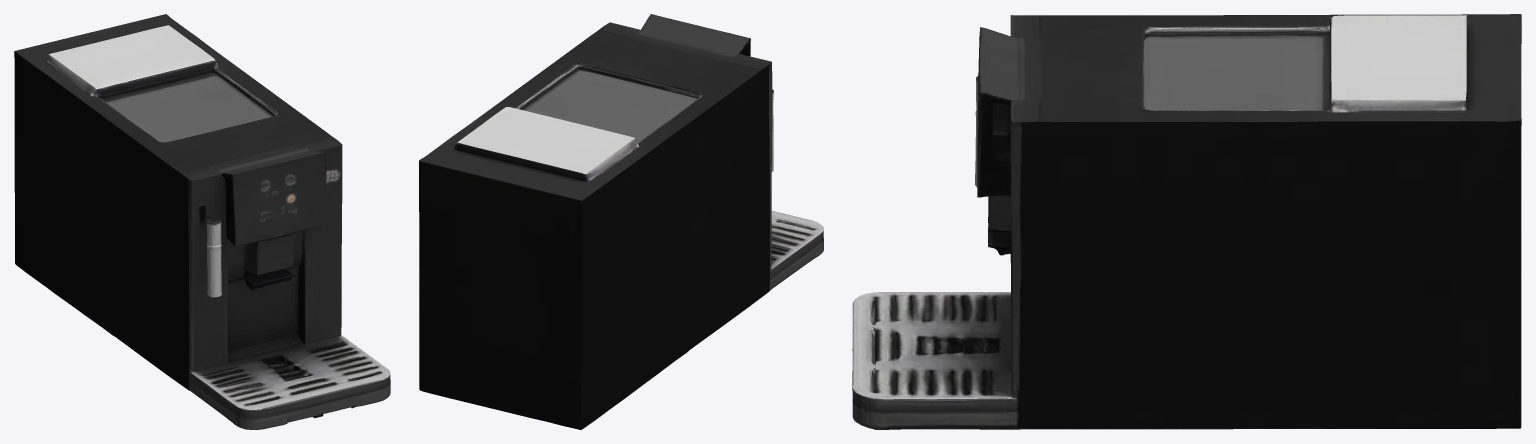
File: 3c2b6bbc-65a8-4138-95f1-2f41f273ccfe.glb
3 views of the same model, side by side, from view 1: azimuth 30°, elevation 25°; view 2: azimuth 150°, elevation 25°; view 3: azimuth 270°, elevation 25° (orthographic). The views are drawn at different scales.
Parts seen in each view (by area): view 1: world; view 2: world; view 3: world.
Part boxes in pixels (x1,y1,x2,y2): world: (14, 14, 390, 429); world: (419, 14, 823, 429); world: (852, 14, 1521, 429).
Bounding box in the file's own units: 0.3791 × 0.5356 × 1.
Materials: 1 (1 with a texture image).
